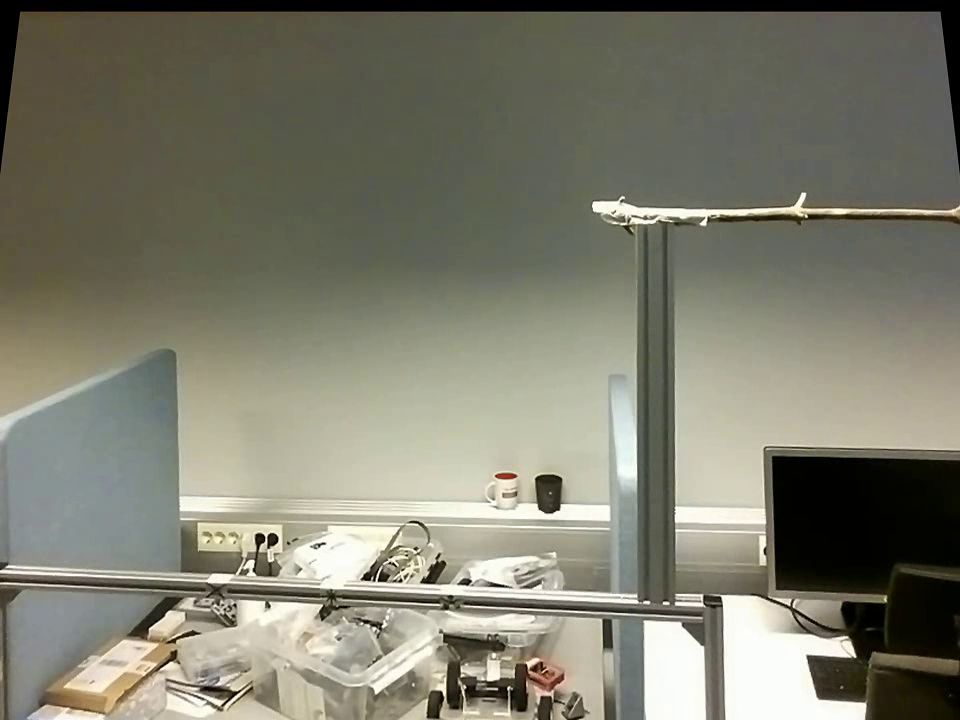aluminum_frame: (1, 560, 702, 624), (627, 228, 684, 602), (694, 593, 734, 718)
branch: (712, 181, 954, 236)
